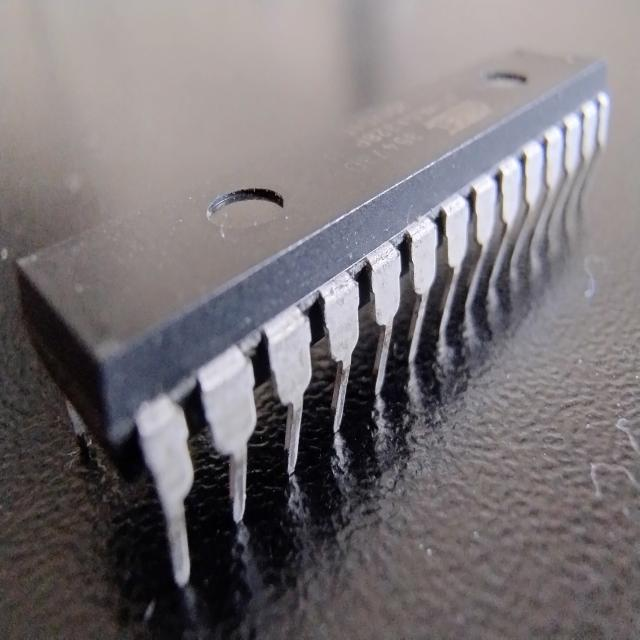atmega: (11, 38, 614, 587)
